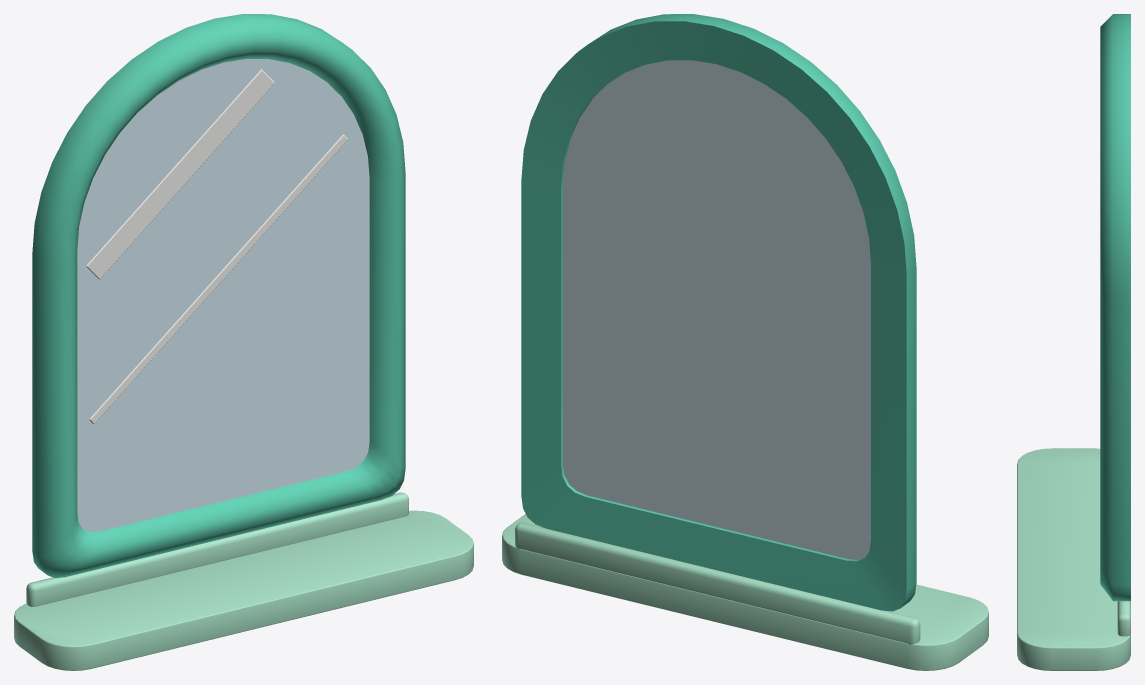
The model's file is espelho_arco_prateleira_verde_agua.glb.
3 views of the same model, side by side, from view 1: azimuth 30°, elevation 25°; view 2: azimuth 150°, elevation 25°; view 3: azimuth 270°, elevation 25° (orthographic). The views are drawn at different scales.
Visible parts, largest first — view 1: espelho_arco_prateleira_verde_agua; view 2: espelho_arco_prateleira_verde_agua; view 3: espelho_arco_prateleira_verde_agua.
Boxes of the visible parts, <box> form: espelho_arco_prateleira_verde_agua: <box>14,14,473,670</box>; espelho_arco_prateleira_verde_agua: <box>502,14,988,670</box>; espelho_arco_prateleira_verde_agua: <box>1017,14,1130,670</box>.
Size of the model in its own units: 0.54 by 0.68 by 0.13.
Materials: 2 (1 with a texture image).
